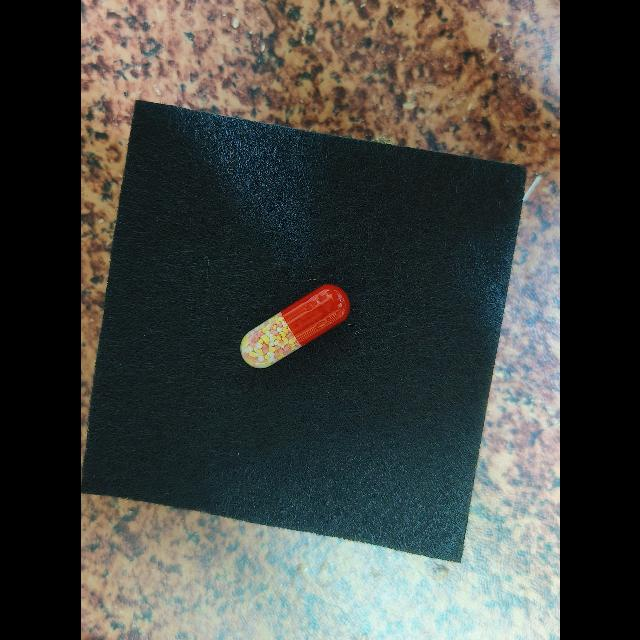Intact Capsule: (239, 284, 349, 368)
